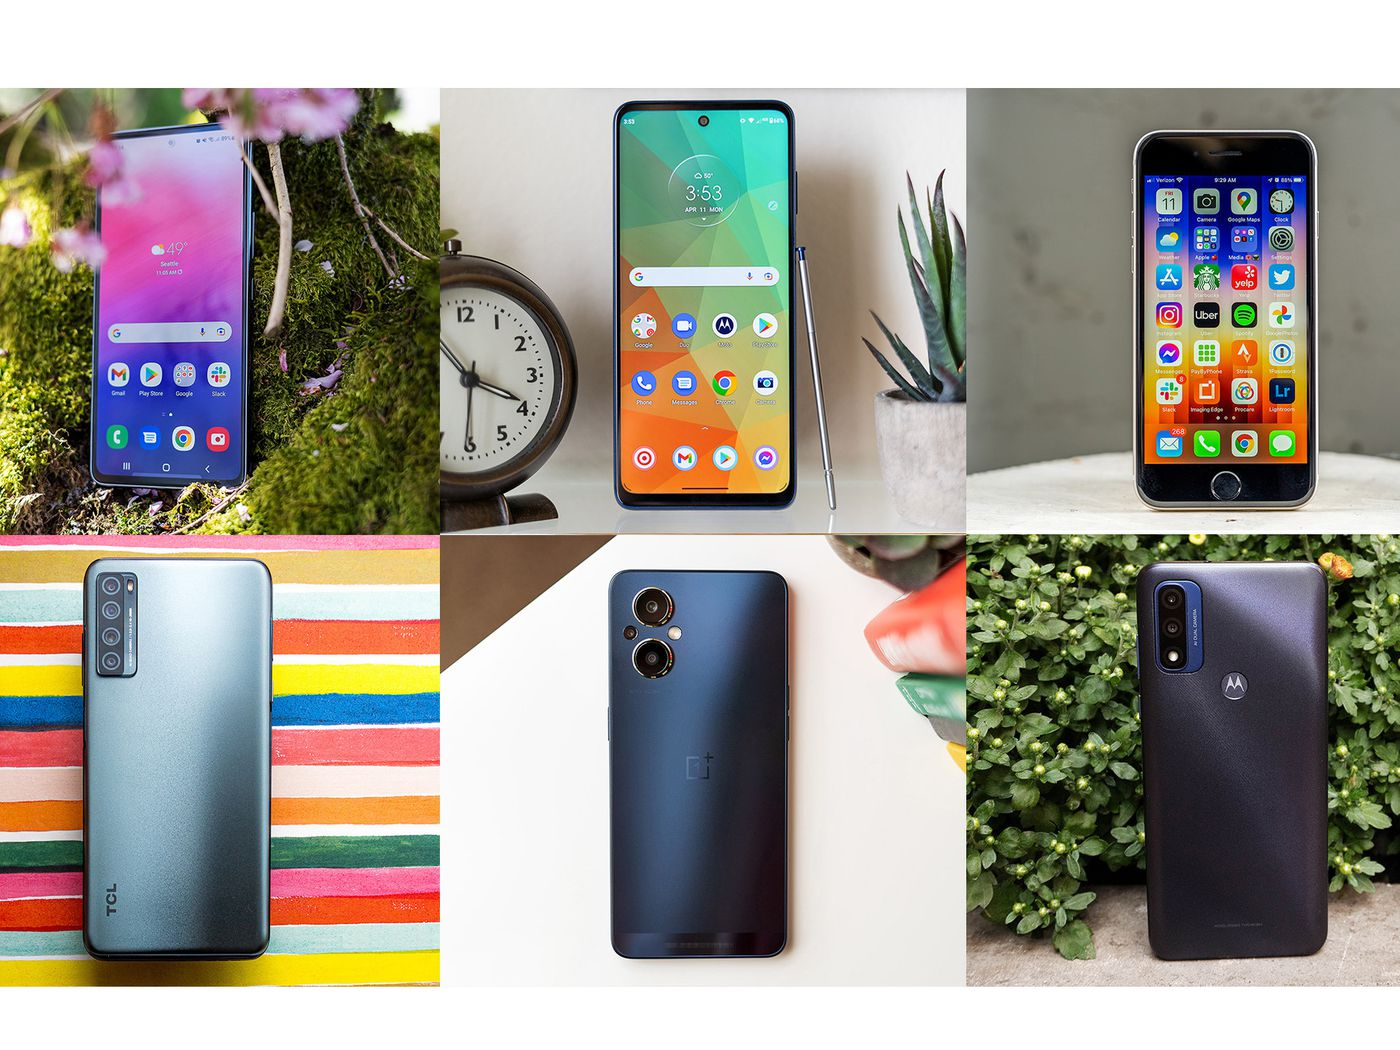phones: (586, 99, 843, 517), (71, 555, 292, 968), (1126, 550, 1348, 949), (1110, 130, 1340, 507), (61, 122, 297, 489), (607, 558, 810, 971)
